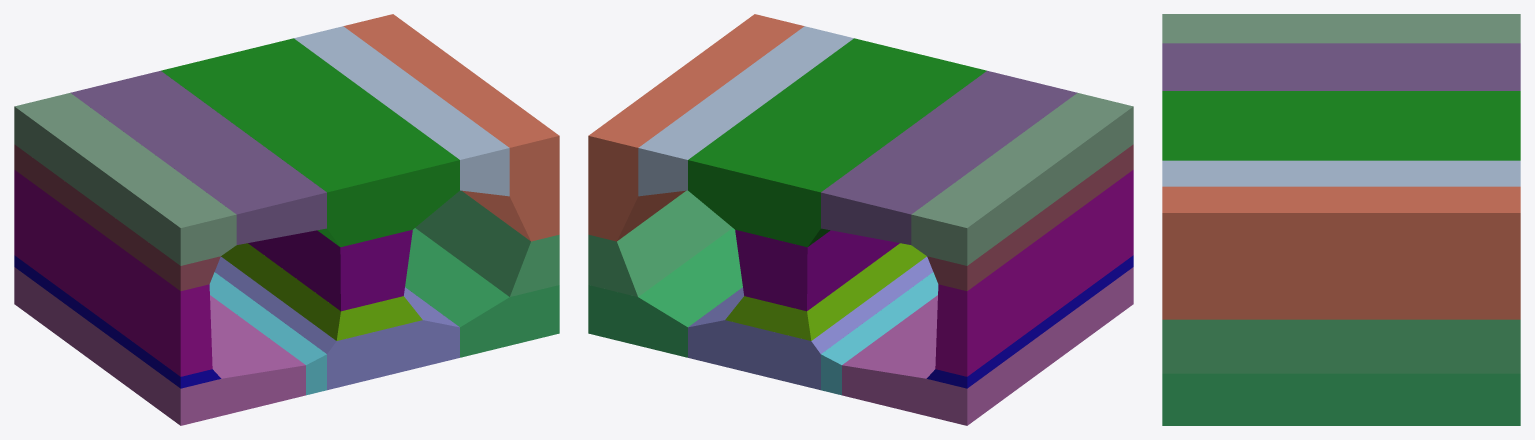
Rendered from hole_0.obj.
The picture shows the model from 3 angles, left to right: view 1: azimuth 30°, elevation 25°; view 2: azimuth 150°, elevation 25°; view 3: azimuth 270°, elevation 25°; orthographic projection. The views are drawn at different scales.
Visible parts, largest first — view 1: geometry_8, geometry_1, geometry_0, geometry_14, geometry_7, geometry_9, geometry_6, geometry_10, geometry_12, geometry_11, geometry_3, geometry_4 (+3 smaller); view 2: geometry_8, geometry_1, geometry_0, geometry_14, geometry_7, geometry_9, geometry_6, geometry_10, geometry_12, geometry_11, geometry_3, geometry_4 (+3 smaller); view 3: geometry_9, geometry_8, geometry_3, geometry_10, geometry_1, geometry_0, geometry_6.
Boxes of the visible parts, x1=… form: geometry_8: x1=161, y1=38, x2=459, y2=247; geometry_1: x1=70, y1=70, x2=326, y2=244; geometry_0: x1=14, y1=93, x2=236, y2=265; geometry_14: x1=14, y1=170, x2=212, y2=376; geometry_7: x1=14, y1=267, x2=305, y2=425; geometry_9: x1=343, y1=14, x2=559, y2=241; geometry_6: x1=294, y1=26, x2=509, y2=196; geometry_10: x1=405, y1=228, x2=559, y2=357; geometry_12: x1=214, y1=257, x2=459, y2=390; geometry_11: x1=248, y1=229, x2=412, y2=311; geometry_3: x1=415, y1=190, x2=559, y2=296; geometry_4: x1=221, y1=243, x2=422, y2=340; geometry_8: x1=688, y1=38, x2=986, y2=247; geometry_1: x1=821, y1=70, x2=1077, y2=244; geometry_0: x1=911, y1=93, x2=1133, y2=265; geometry_14: x1=935, y1=170, x2=1133, y2=376; geometry_7: x1=842, y1=267, x2=1133, y2=425; geometry_9: x1=588, y1=14, x2=804, y2=241; geometry_6: x1=638, y1=26, x2=853, y2=196; geometry_10: x1=588, y1=228, x2=742, y2=357; geometry_12: x1=688, y1=257, x2=933, y2=390; geometry_11: x1=735, y1=229, x2=899, y2=311; geometry_3: x1=588, y1=190, x2=732, y2=296; geometry_4: x1=725, y1=243, x2=926, y2=340; geometry_9: x1=1162, y1=186, x2=1520, y2=319; geometry_8: x1=1162, y1=91, x2=1520, y2=160; geometry_3: x1=1162, y1=319, x2=1520, y2=373; geometry_10: x1=1162, y1=373, x2=1520, y2=425; geometry_1: x1=1162, y1=43, x2=1520, y2=90; geometry_0: x1=1162, y1=14, x2=1520, y2=43; geometry_6: x1=1162, y1=160, x2=1520, y2=186.
Size of the model in its own units: 0.0657 by 0.0328 by 0.05.
